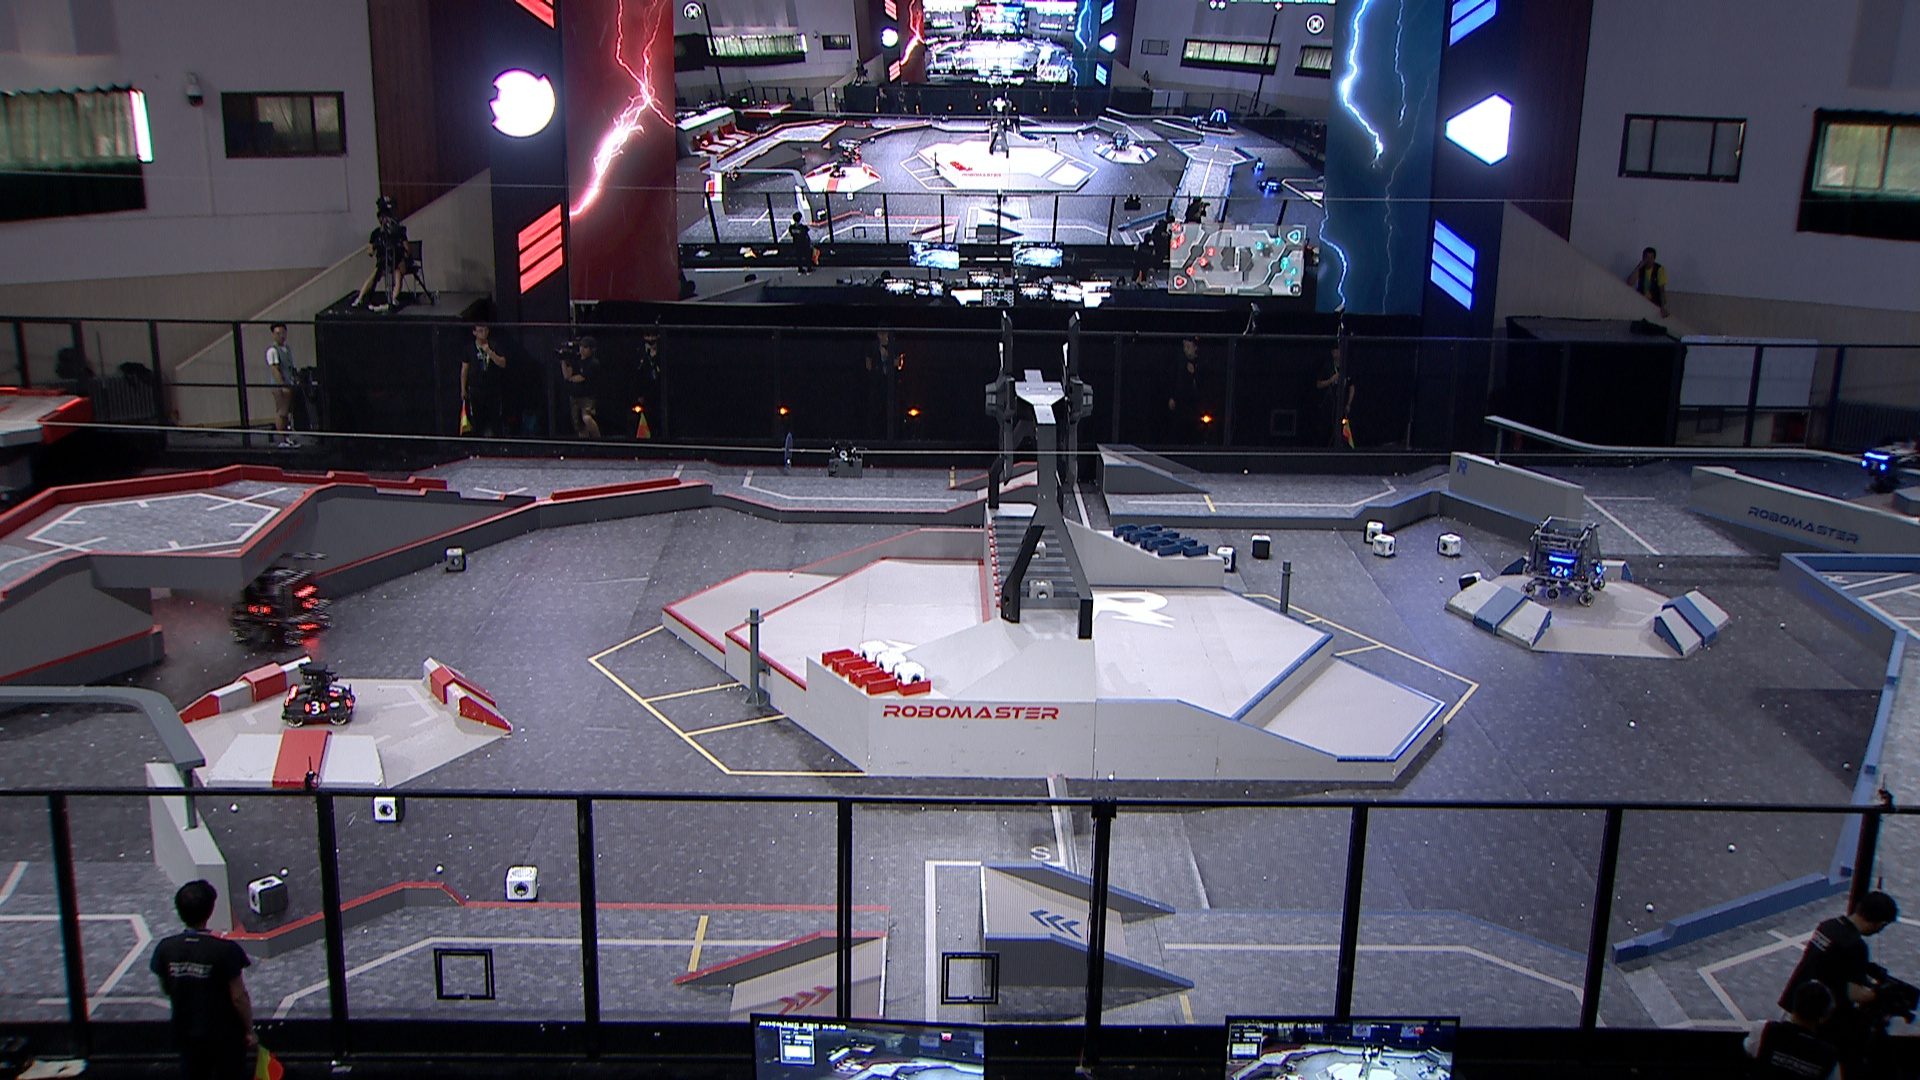armor: (1859, 458, 1890, 473), (301, 699, 328, 716), (1548, 564, 1572, 580), (247, 604, 272, 618), (324, 680, 344, 698), (299, 597, 320, 611)
car: (228, 546, 338, 650), (1518, 514, 1607, 609), (280, 661, 361, 727)
ignore: (837, 138, 865, 166), (1204, 109, 1232, 131), (1106, 131, 1133, 152), (1258, 175, 1284, 193), (723, 164, 745, 183), (825, 162, 849, 179)
watcher: (1851, 439, 1920, 496)
